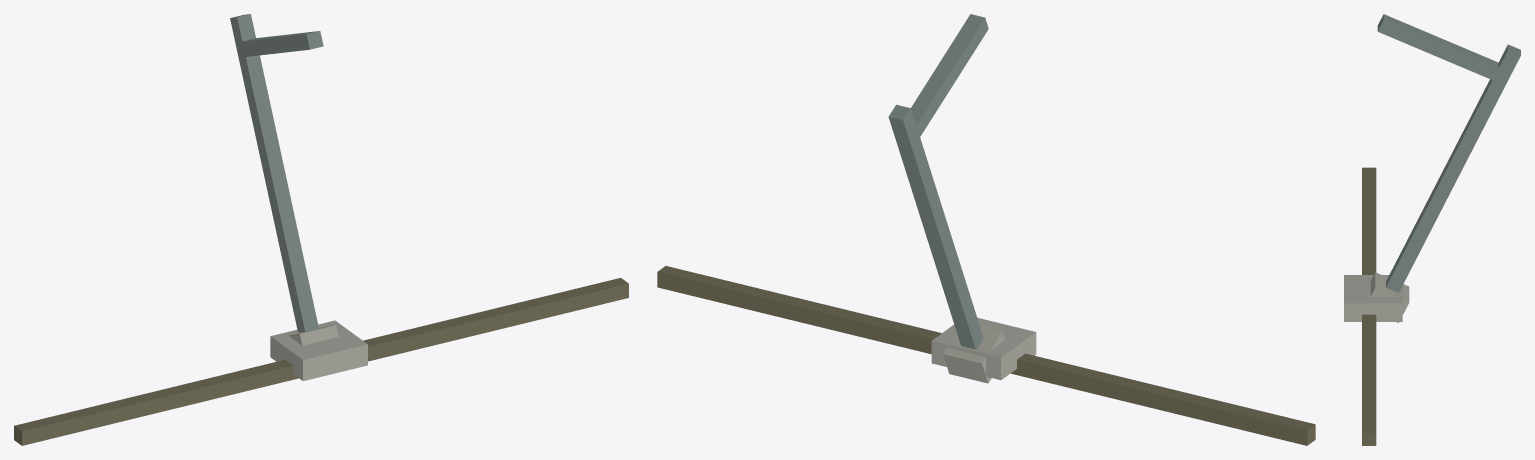
File: SM_CatenariaCaida_v2_Inclinado_LOD1.fbx
3 views of the same model, side by side, from view 1: azimuth 30°, elevation 25°; view 2: azimuth 150°, elevation 25°; view 3: azimuth 270°, elevation 25° (orthographic). The views are drawn at different scales.
Visible parts, largest first — view 1: SM_aqui_paso_algo_v12_LOD1; view 2: SM_aqui_paso_algo_v12_LOD1; view 3: SM_aqui_paso_algo_v12_LOD1.
Part boxes in pixels (x1,y1,x2,y2): SM_aqui_paso_algo_v12_LOD1: (14,14,628,445); SM_aqui_paso_algo_v12_LOD1: (657,14,1315,445); SM_aqui_paso_algo_v12_LOD1: (1344,14,1520,445).
Size of the model in its own units: 15 by 7.86 by 4.22.
